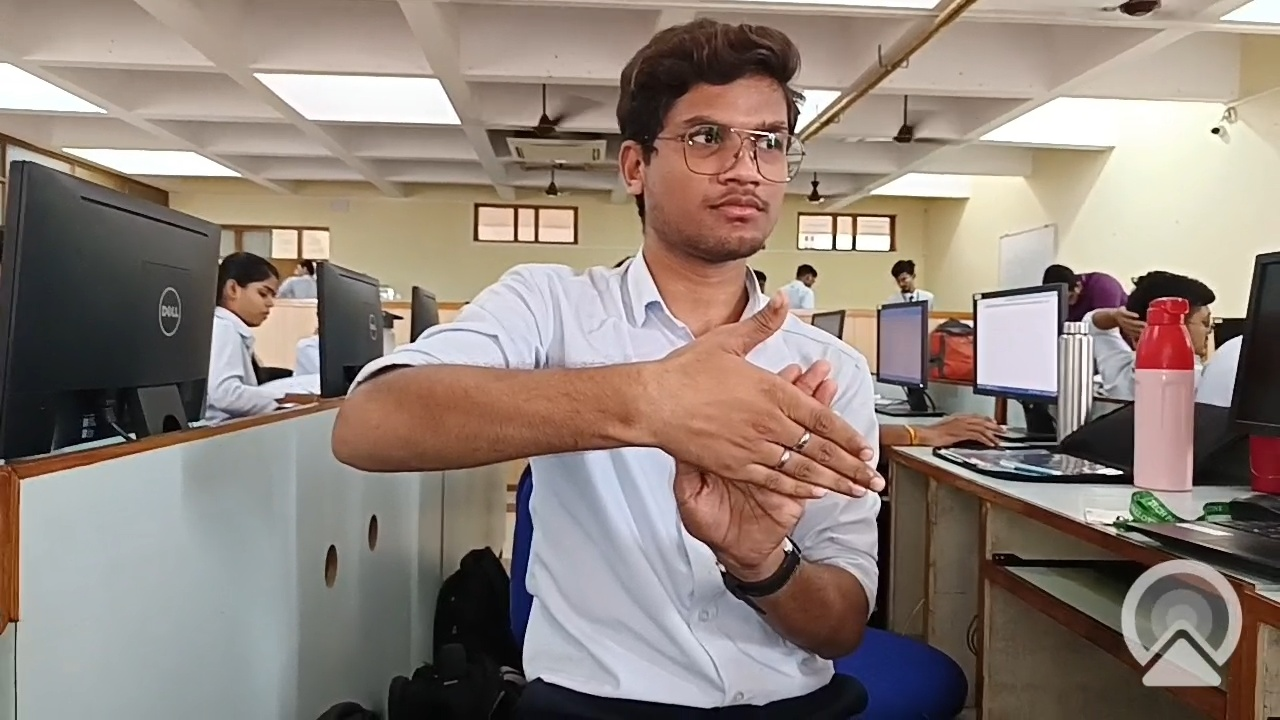W: (482, 274, 942, 627)
